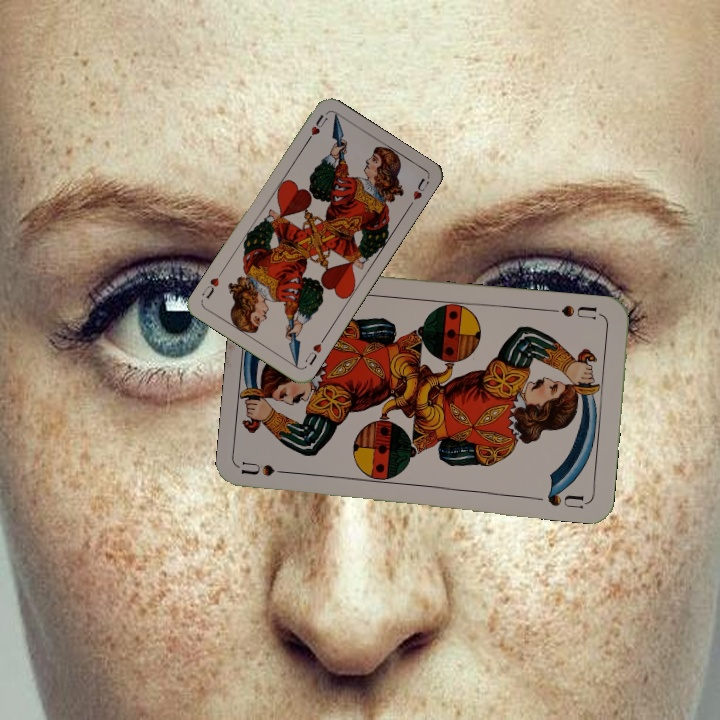HU: (302, 110, 330, 146), (301, 333, 328, 368)
SU: (239, 458, 299, 479), (545, 301, 599, 322)
